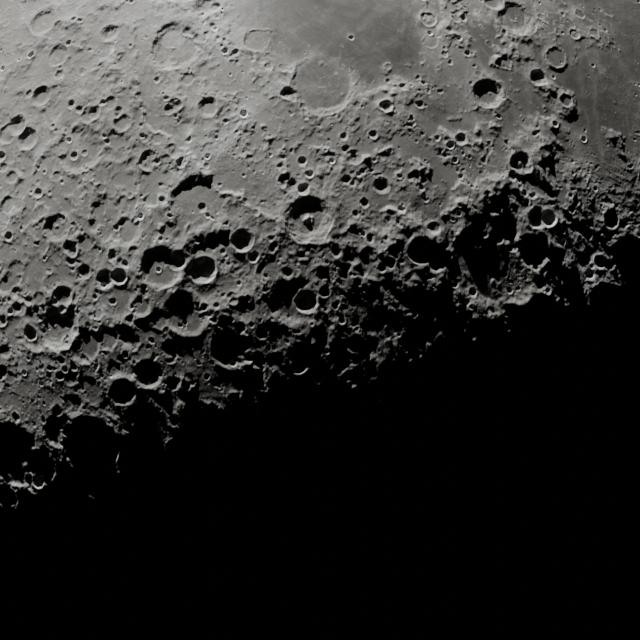crater: (154, 292, 214, 335), (136, 245, 185, 293), (286, 196, 335, 241), (514, 227, 555, 278), (406, 225, 442, 270), (104, 372, 142, 413), (468, 75, 511, 111), (130, 355, 168, 395), (182, 252, 220, 286), (506, 147, 540, 180), (290, 285, 322, 315), (596, 202, 622, 236), (12, 121, 41, 150), (46, 284, 77, 311), (529, 202, 555, 233), (229, 227, 259, 253), (94, 268, 118, 298), (554, 87, 578, 114), (545, 47, 570, 71), (18, 322, 44, 345), (196, 95, 221, 118), (369, 175, 396, 196), (58, 237, 84, 258), (278, 79, 300, 103), (582, 251, 612, 268), (528, 66, 550, 88), (110, 266, 131, 289), (31, 83, 52, 105), (377, 97, 399, 114), (452, 132, 472, 145), (76, 264, 94, 278), (195, 199, 212, 213)
rock: (298, 210, 316, 226)
